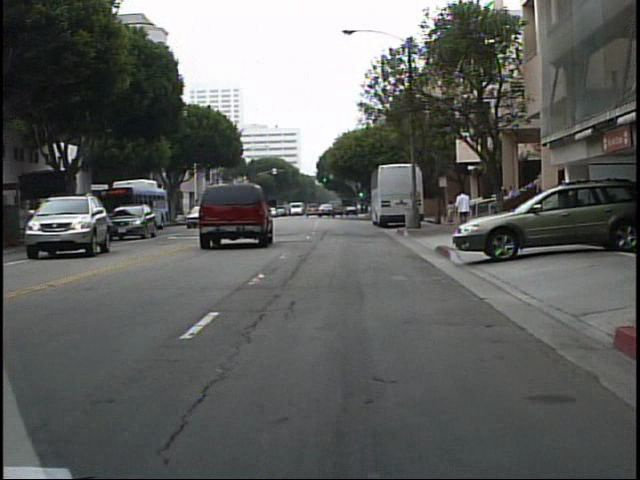person: (453, 187, 474, 238), (444, 198, 456, 225)
